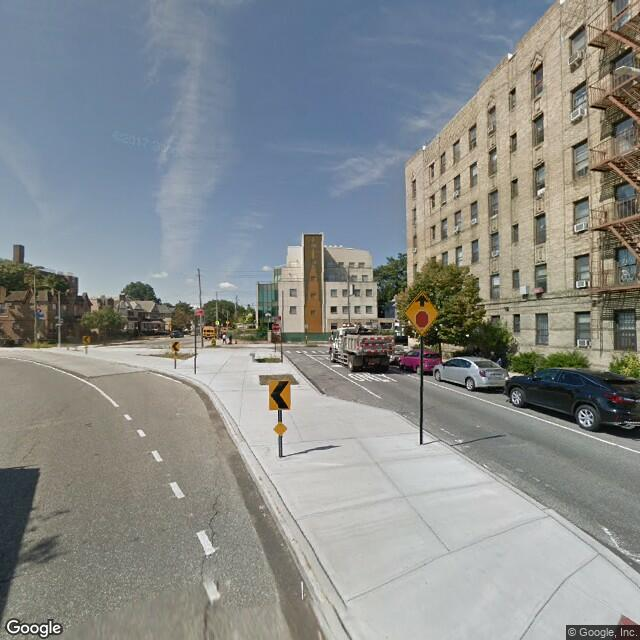litter: (300, 581, 305, 602)
